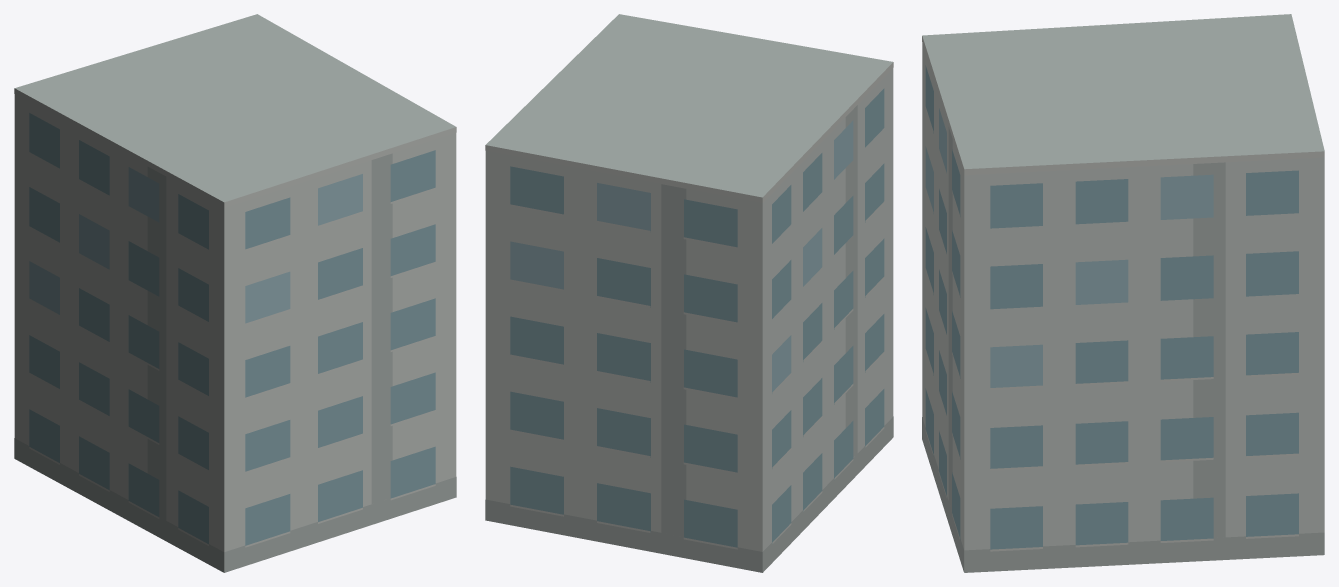
Rendered from survey-upis-32856992.glb.
The picture shows the model from 3 angles, left to right: view 1: azimuth 30°, elevation 25°; view 2: azimuth 150°, elevation 25°; view 3: azimuth 270°, elevation 25°; orthographic projection. The views are drawn at different scales.
Parts seen in each view (by area): view 1: survey-upis-32856992.tmp; view 2: survey-upis-32856992.tmp; view 3: survey-upis-32856992.tmp.
Boxes of the visible parts, x1=… form: survey-upis-32856992.tmp: x1=14, y1=14, x2=456, y2=572; survey-upis-32856992.tmp: x1=485, y1=14, x2=893, y2=572; survey-upis-32856992.tmp: x1=922, y1=14, x2=1324, y2=572.
Bounding box in the file's own units: 13.1 × 15.88 × 14.36.
